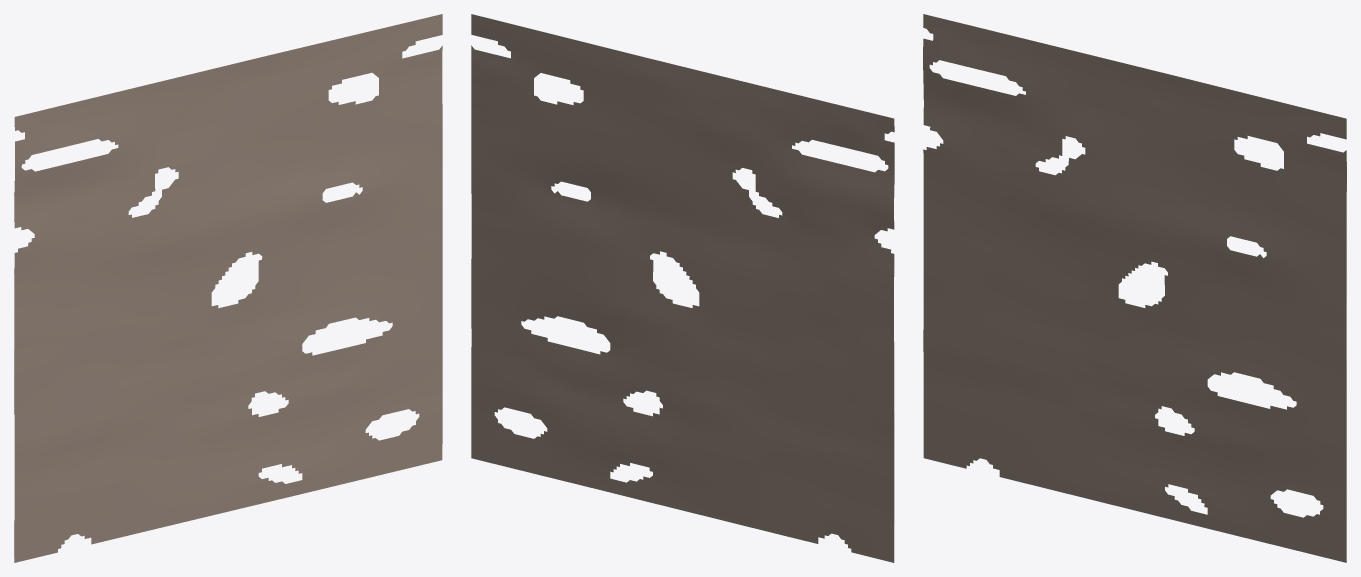
The model's file is L09_shell.glb.
3 views of the same model, side by side, from view 1: azimuth 30°, elevation 25°; view 2: azimuth 150°, elevation 25°; view 3: azimuth 330°, elevation 25° (orthographic).
Parts seen in each view (by area): view 1: world; view 2: world; view 3: world.
Boxes of the visible parts, x1,y1,x2,y2 form: world: [14, 14, 442, 562]; world: [471, 14, 894, 562]; world: [923, 14, 1346, 562].
Bounding box in the file's own units: 12800 × 12800 × 113.
